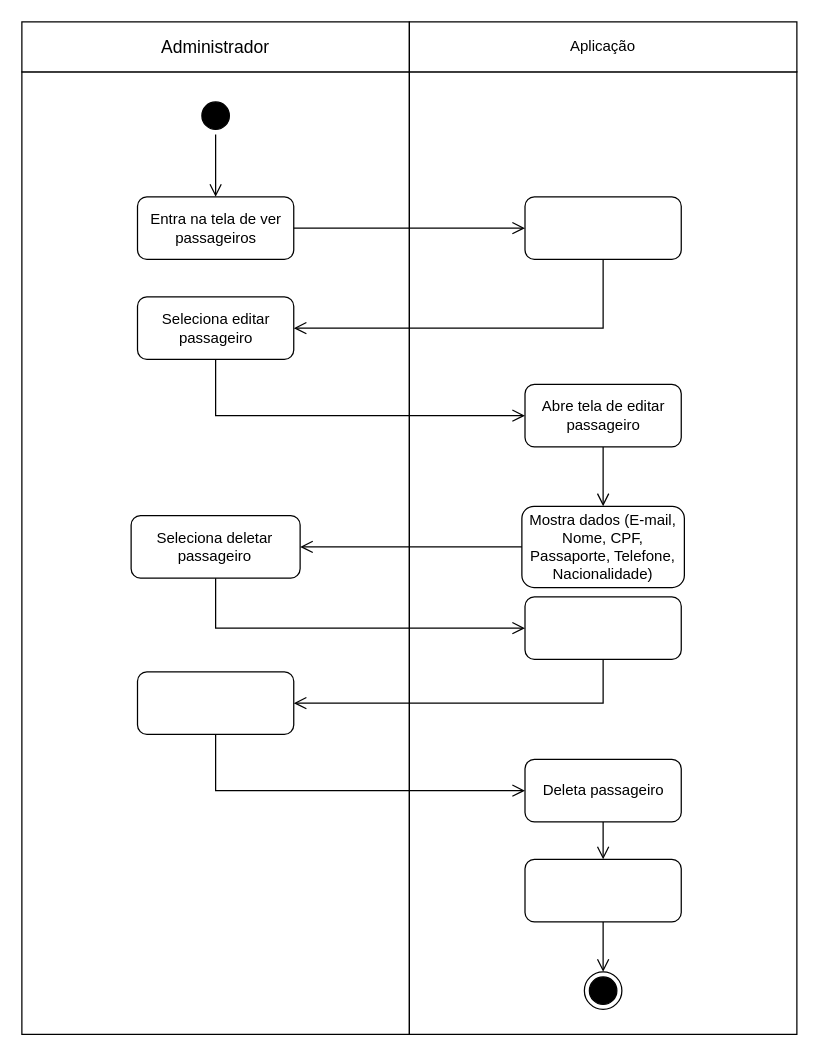
Image size: 819x1056. Some labels were removed from this diagram. Each missing label, with the centre of its shape:
"Confirma remoção" belongs at [215,702].
"Informa que o passageiro foi deletado com sucesso" belongs at [602,890].
"Mostra passageiros" belongs at [602,227].
"Pergunta se tem certeza" belongs at [602,627].
